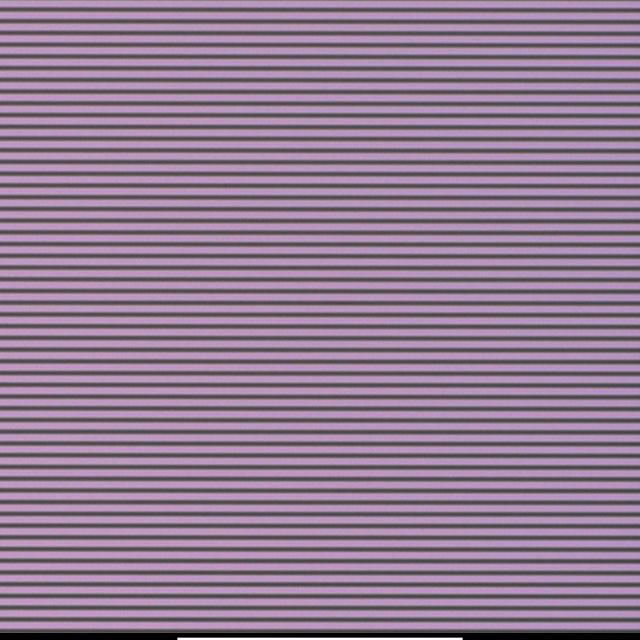nonvisual: (326, 299, 336, 307)
